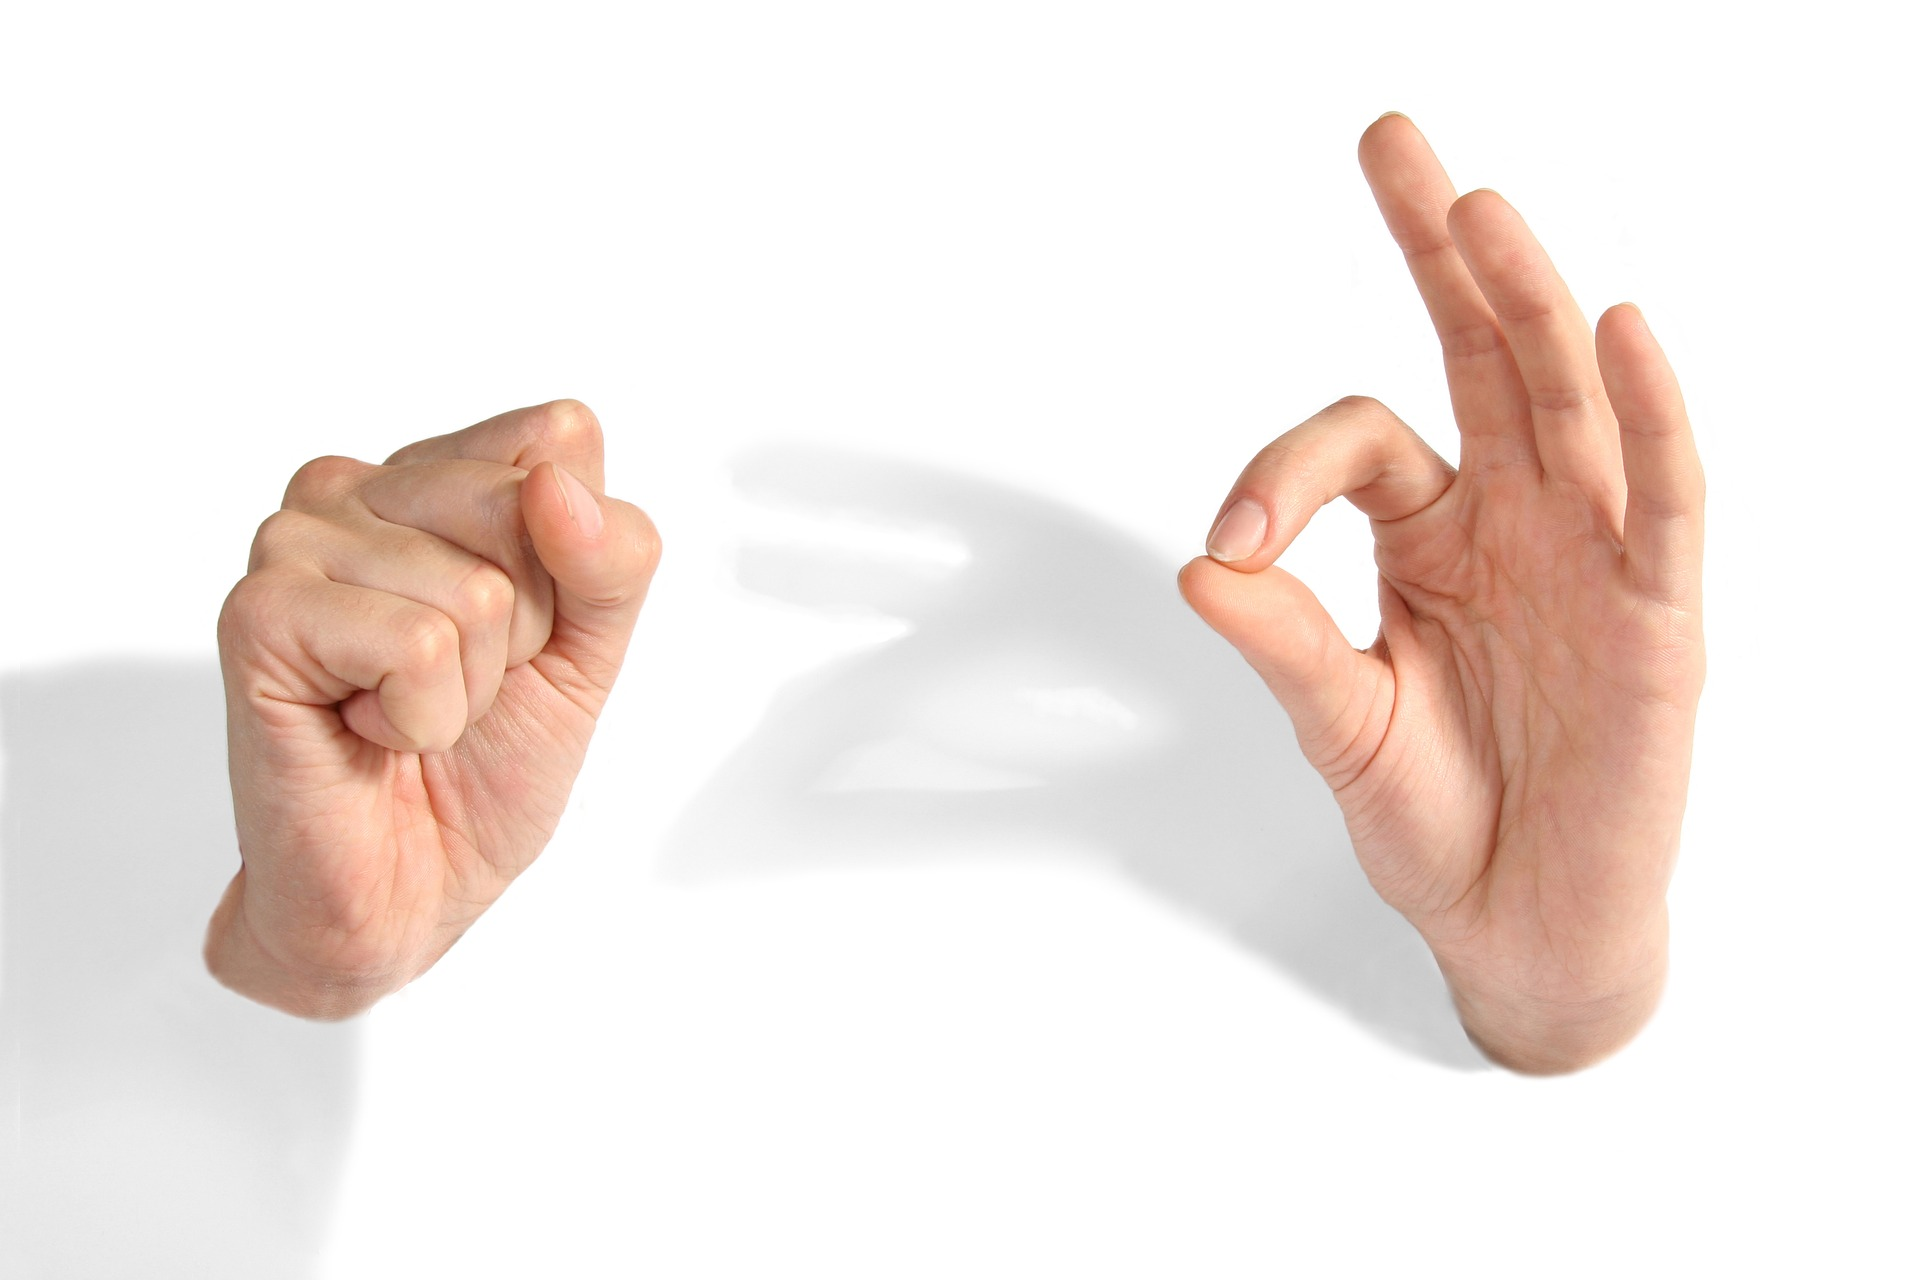fist: (239, 421, 701, 966)
